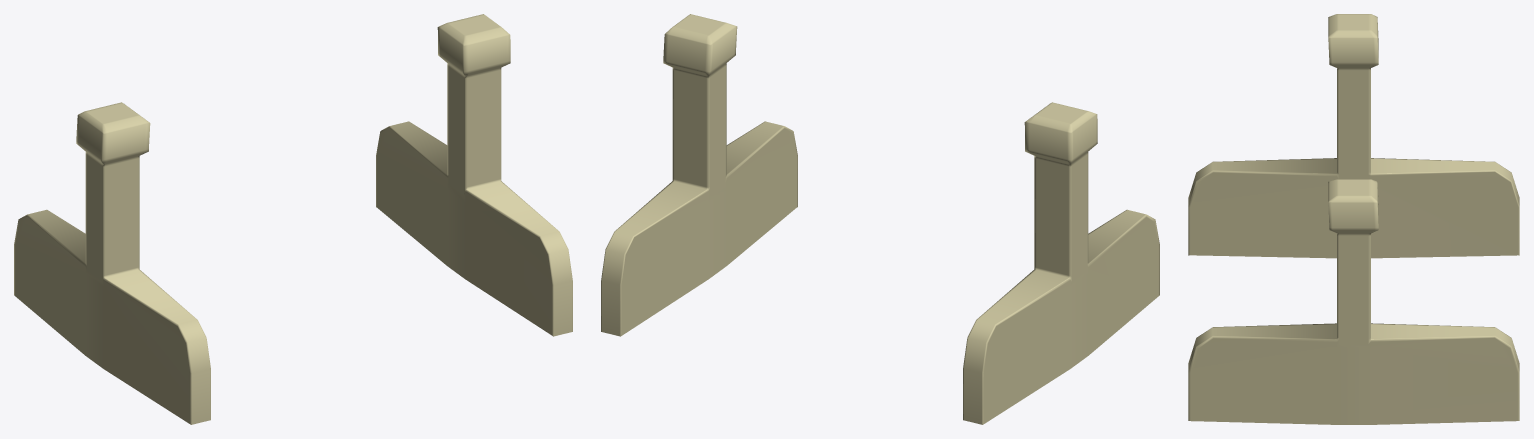
The model's file is bridge_rails.glb.
3 renders of one model, left to right at view 1: azimuth 30°, elevation 25°; view 2: azimuth 150°, elevation 25°; view 3: azimuth 270°, elevation 25°, orthographic. The views are drawn at different scales.
Parts seen in each view (by area): view 1: Cube; view 2: Cube; view 3: Cube.
Boxes of the visible parts, x1,y1,x2,y2 form: Cube: (14,14,572,424); Cube: (601,14,1159,424); Cube: (1188,14,1519,424).
Size of the model in its own units: 22.63 by 12.95 by 17.
